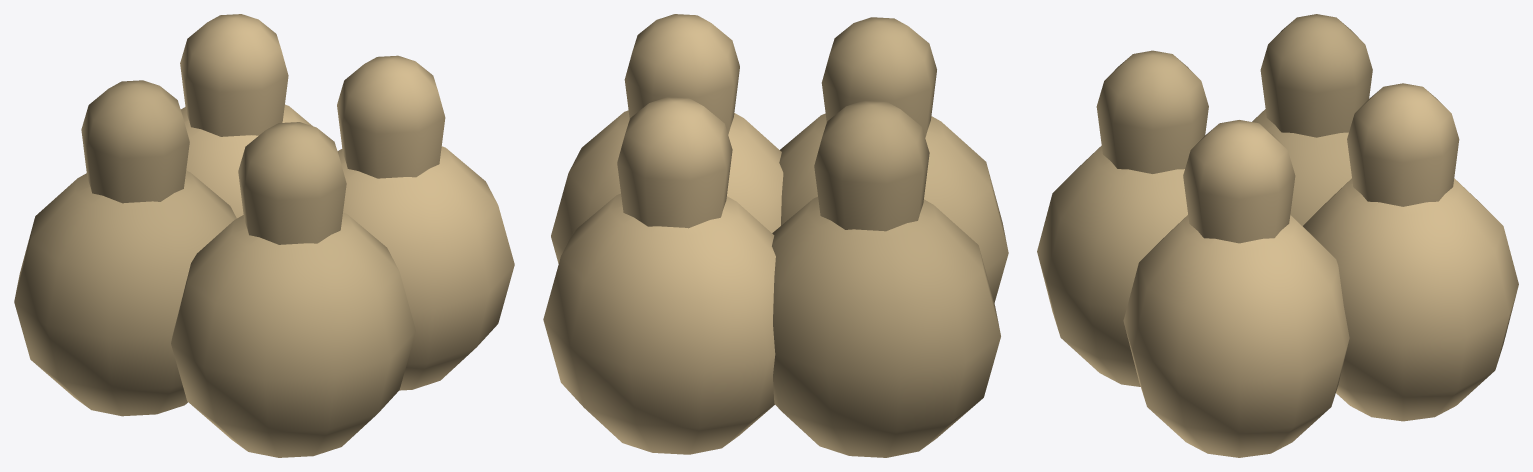
The model's file is sacks_heap.fbx.
3 renders of one model, left to right at view 1: azimuth 30°, elevation 25°; view 2: azimuth 150°, elevation 25°; view 3: azimuth 270°, elevation 25°, orthographic. The views are drawn at different scales.
Parts seen in each view (by area): view 1: sacks_heap; view 2: sacks_heap; view 3: sacks_heap.
Boxes of the visible parts, <box> form: sacks_heap: <box>14,14,514,457</box>; sacks_heap: <box>543,14,1008,457</box>; sacks_heap: <box>1037,14,1518,457</box>.
Bounding box in the file's own units: 0.1064 × 0.076 × 0.103.
